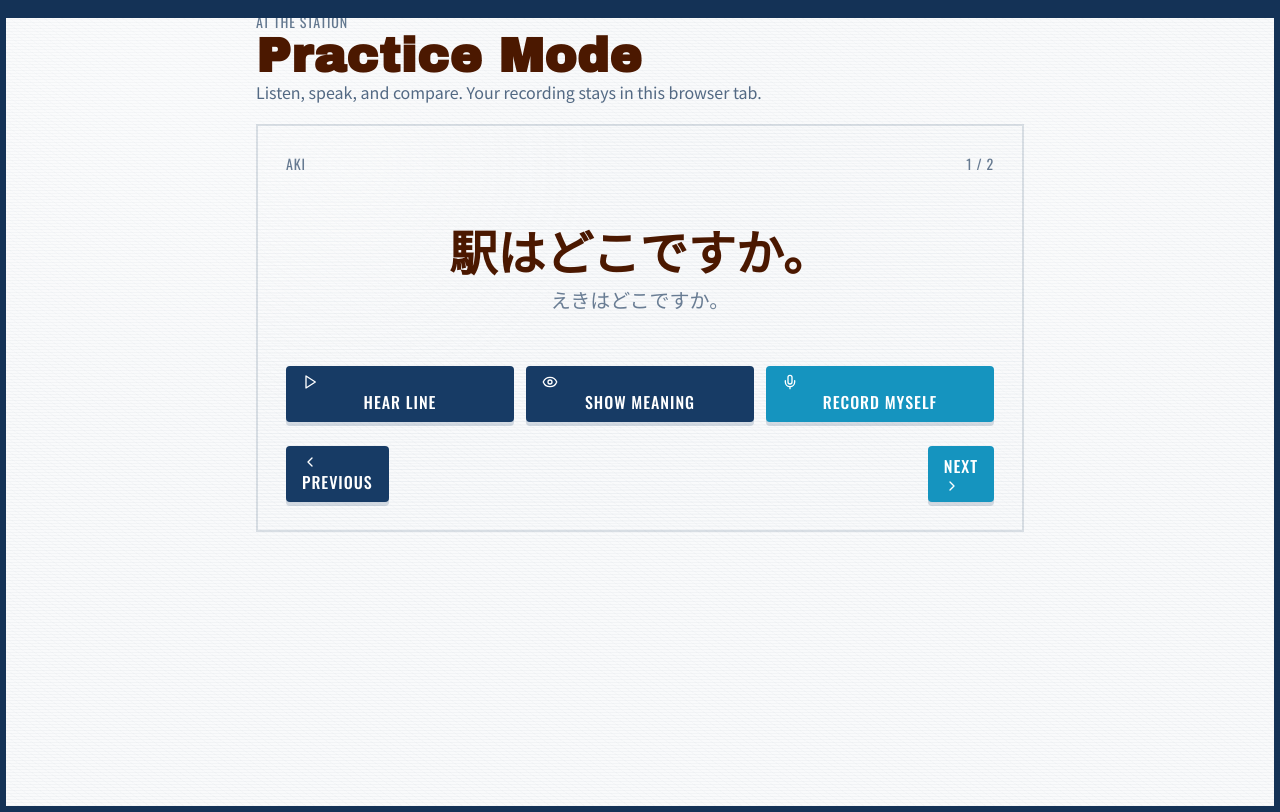
Test case: PracticePage › records and stops a local practice take
Expected: the text "駅はどこですか。" is shown, [449,215,831,285]
Click the button "Record myself". click: [880, 394]
box: [766,366,994,422]
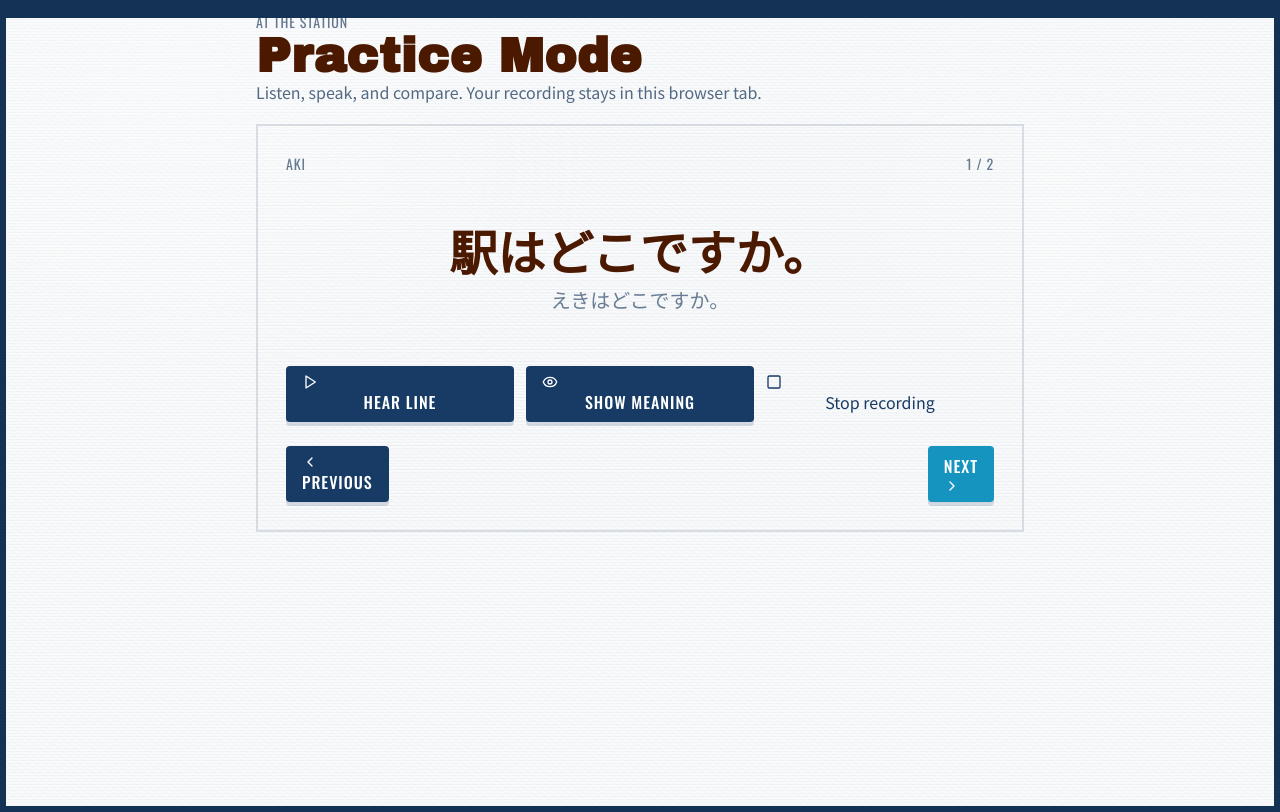
Now the button "Stop recording" is shown
Click the button "Stop recording". click: [880, 394]
box: [766,366,994,422]
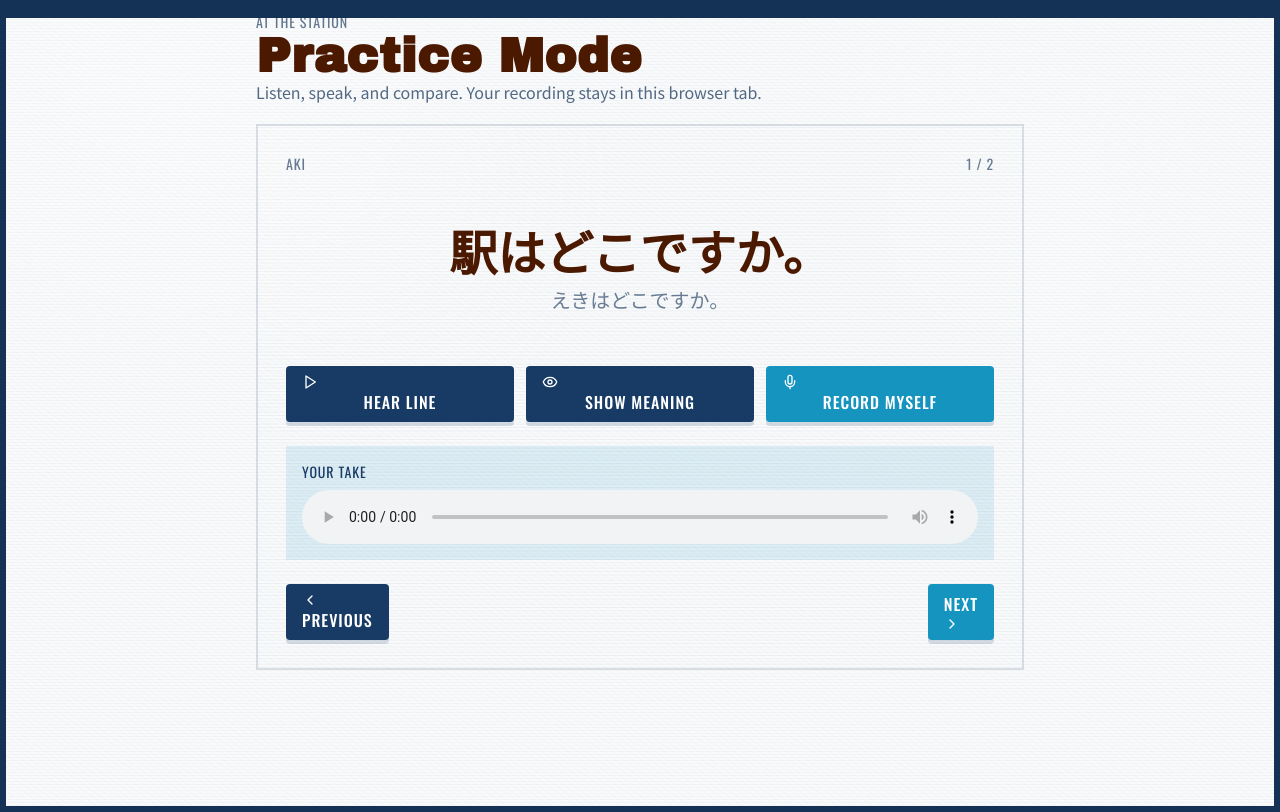
Now the text "Your take" is shown, box [302,461,366,482]
